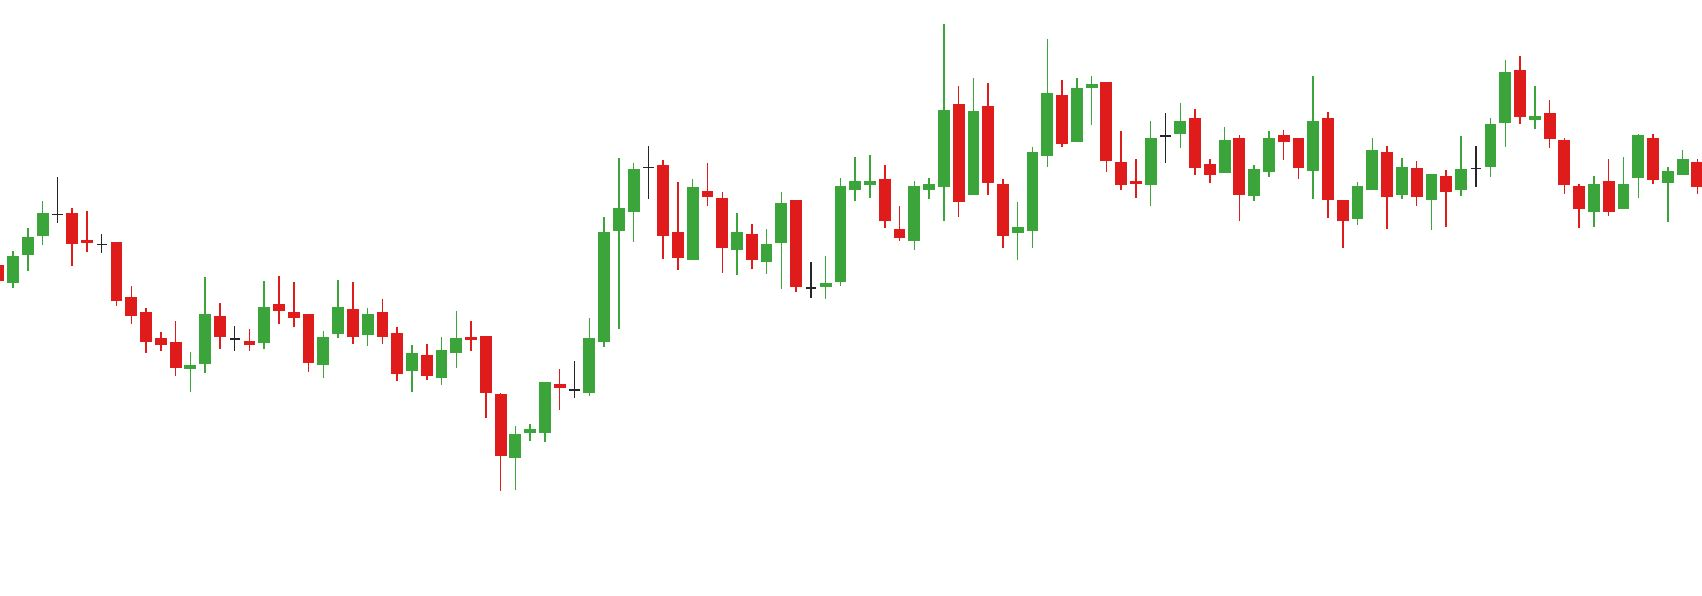buy: (1230, 104, 1366, 256)
